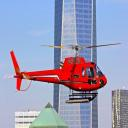helicopter: (9, 39, 124, 107)
